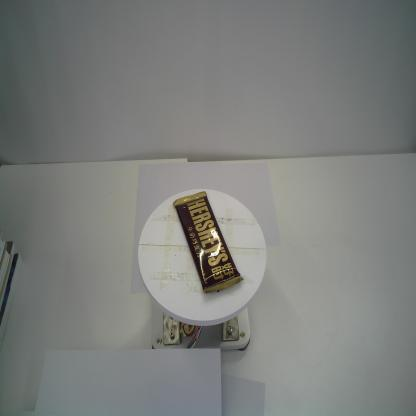Chocolate: (172, 190, 245, 296)
